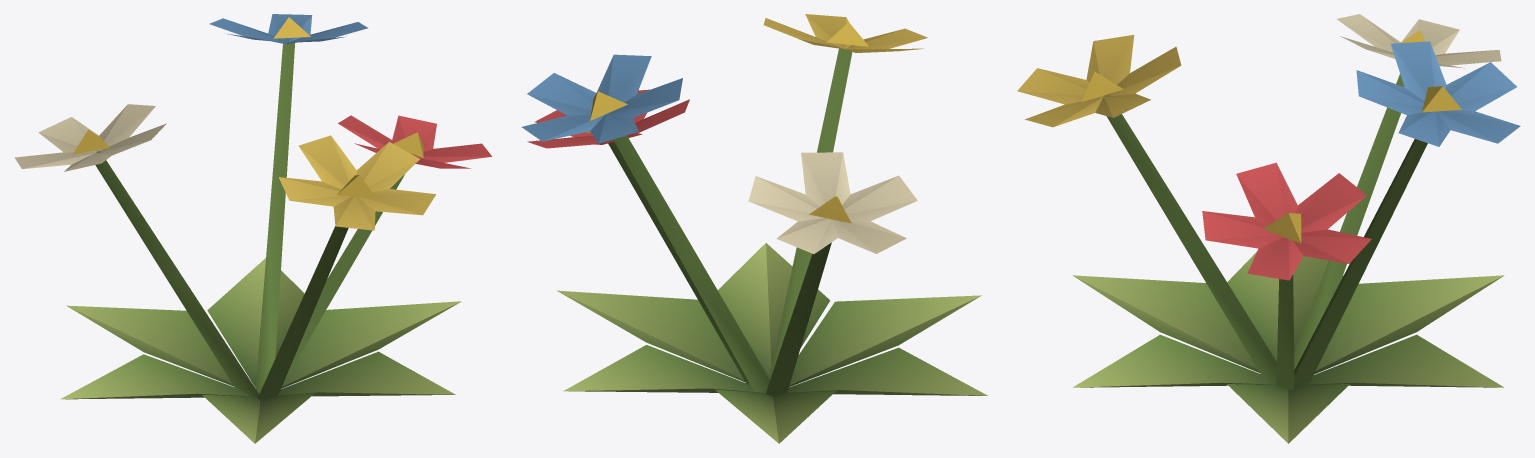
The model's file is deco-flowers.glb.
3 renders of one model, left to right at view 1: azimuth 30°, elevation 25°; view 2: azimuth 150°, elevation 25°; view 3: azimuth 270°, elevation 25°, orthographic. The views are drawn at different scales.
Visible parts, largest first — view 1: 0_flowers; view 2: 0_flowers; view 3: 0_flowers.
Part boxes in pixels (<box>): 0_flowers: <box>15,14,491,443</box>; 0_flowers: <box>521,14,987,443</box>; 0_flowers: <box>1017,14,1520,443</box>.
Bounding box in the file's own units: 0.5581 × 0.4201 × 0.5033.
